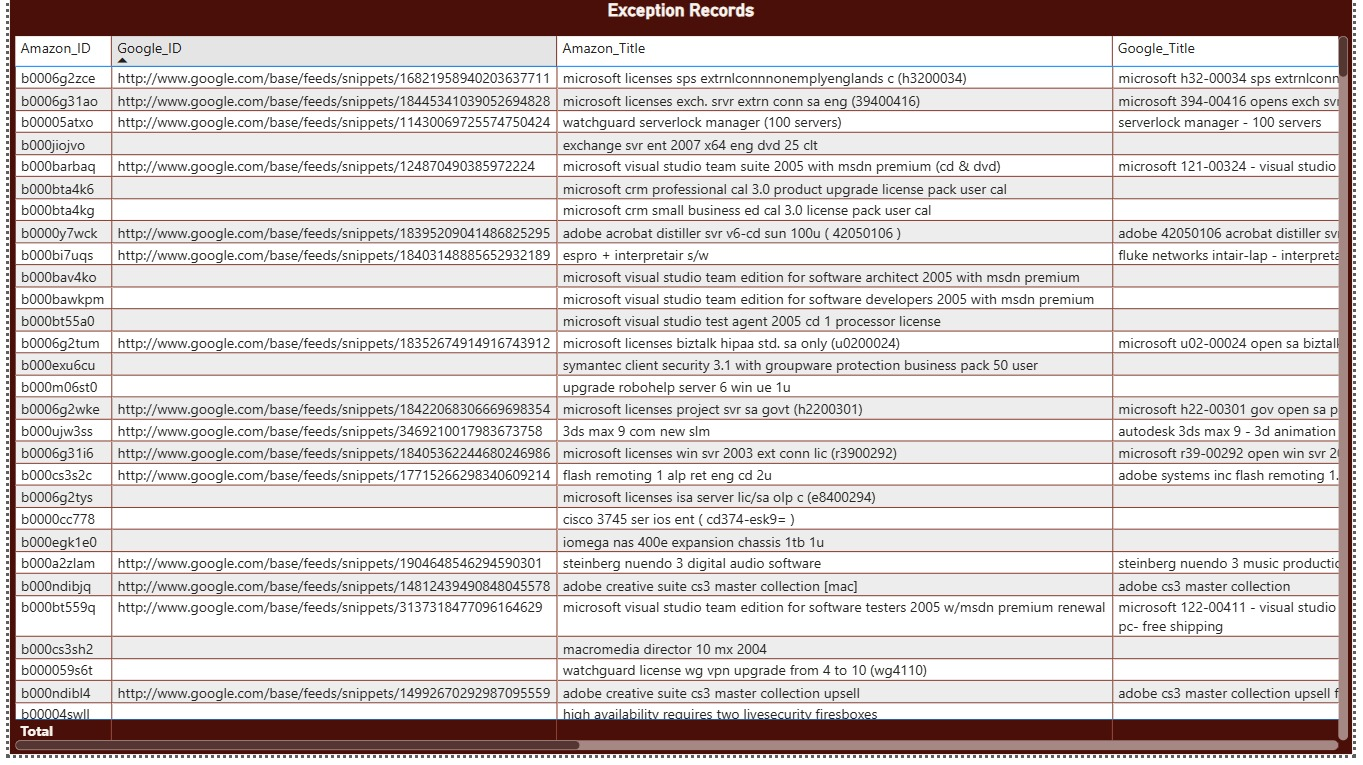

What the dashboard file says about the page in this screenshot:
{"tool":"powerbi","page":{"name":"Exception Records","canvas":[1280,720],"ordinal":2},"visuals":[{"type":"tableEx","title":"Exception Records","fields":{"Values":["Final_Reconciliation.Amazon_ID","Final_Reconciliation.Google_ID","Final_Reconciliation.Amazon_Title","Final_Reconciliation.Google_Title","Sum(Final_Reconciliation.Amazon_Price)","Sum(Final_Reconciliation.Google_Price)","Final_Reconciliation.Price_Check","Final_Reconciliation.Manufacturer_Check","Final_Reconciliation.Reconciliation_Status"]},"box":[0,0,1280,720],"z":0}]}

Visuals, with their boxes in screenshot pixels (x1, y1, x2, y2), scaled from the page's 1280x720 canvas onto the 1363x765 screenshot:
"Exception Records" tableEx: BBox(0, 0, 1362, 764)
